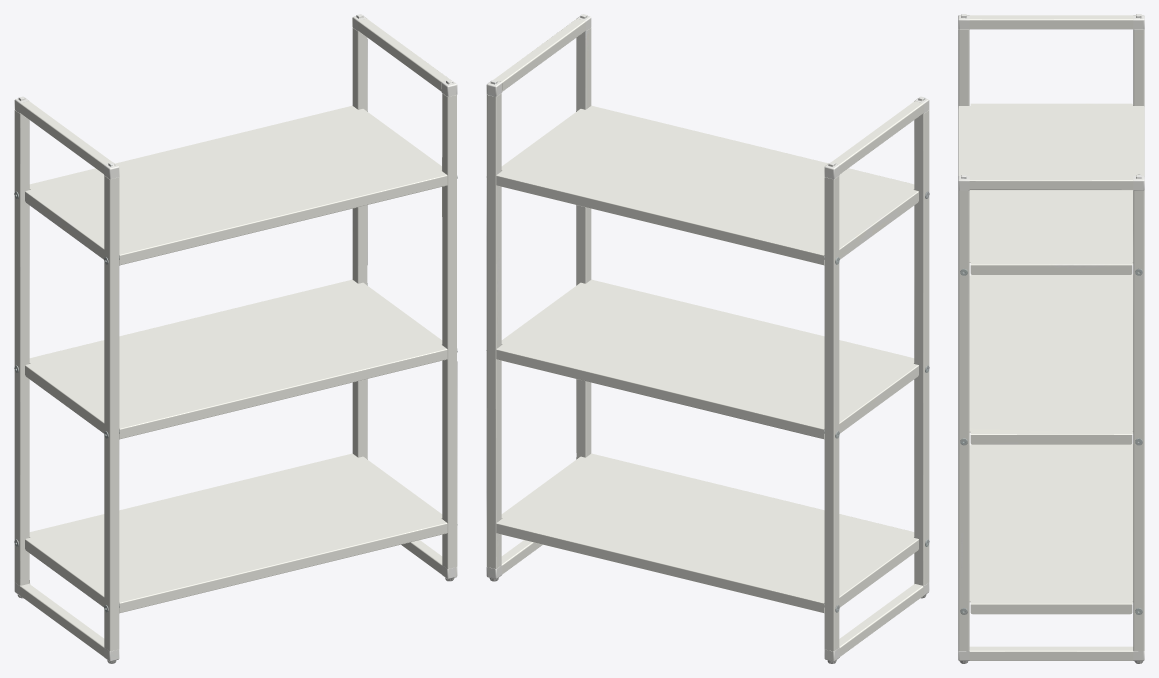
The model's file is jonaxel_rega_30419973.glb.
The picture shows the model from 3 angles, left to right: view 1: azimuth 30°, elevation 25°; view 2: azimuth 150°, elevation 25°; view 3: azimuth 270°, elevation 25°; orthographic projection. The views are drawn at different scales.
Parts seen in each view (by area): view 1: jonaxel_rega_30419973; view 2: jonaxel_rega_30419973; view 3: jonaxel_rega_30419973.
Part boxes in pixels (x1,y1,x2,y2): jonaxel_rega_30419973: (14, 14, 457, 663); jonaxel_rega_30419973: (486, 14, 929, 663); jonaxel_rega_30419973: (958, 14, 1144, 663).
Size of the model in its own units: 0.5156 by 0.703 by 0.244.
1 material, 1 textured.
